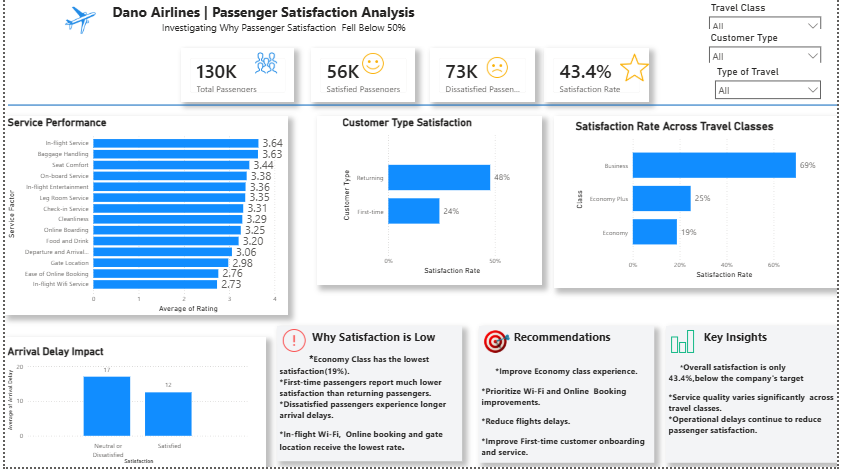

Layout of this report page (visuals, bound fields, positions):
{"tool":"powerbi","page":{"name":"Page 1","canvas":[1600,900],"ordinal":0},"visuals":[{"type":"cardVisual","fields":{"Data":["airline_passenger_satisfaction.Total Passengers"]},"box":[338.5,94.2,217.3,103.8],"z":0},{"type":"cardVisual","fields":{"Data":["airline_passenger_satisfaction.Satisfied Passengers"]},"box":[588.5,94.2,200,103.8],"z":1000},{"type":"cardVisual","fields":{"Data":["airline_passenger_satisfaction.Dissatisfied Passenger"]},"box":[817.3,94.2,201.9,103.8],"z":2000},{"type":"cardVisual","fields":{"Data":["airline_passenger_satisfaction.Satisfaction Rate"]},"box":[1036.5,94.2,201.9,103.8],"z":3000},{"type":"clusteredBarChart","title":" Satisfaction  Rate Across Travel Classes","fields":{"Category":["airline_passenger_satisfaction.Class"],"Y":["airline_passenger_satisfaction.Satisfaction Rate"]},"box":[1092.3,232.7,484.6,309.6],"z":4000},{"type":"clusteredBarChart","title":" Service Performance  ","fields":{"Category":["airline_passenger_satisfaction.Service Factor"],"Y":["Avg(airline_passenger_satisfaction.Rating)"]},"box":[0,225,544.2,382.7],"z":5000},{"type":"clusteredBarChart","title":"Customer Type Satisfaction","fields":{"Category":["airline_passenger_satisfaction.Customer Type"],"Y":["airline_passenger_satisfaction.Satisfaction Rate"]},"box":[644.2,225,355.8,309.6],"z":6000},{"type":"clusteredColumnChart","title":" Arrival Delay Impact","fields":{"Category":["airline_passenger_satisfaction.Satisfaction"],"Y":["Avg(airline_passenger_satisfaction.Arrival Delay)"]},"box":[0,665.4,475,234.6],"z":7000},{"type":"shape","box":[5.9,198,1594.1,11.8],"z":8000},{"type":"textbox","box":[1271.2,628.8,328.8,263.5],"z":9000},{"type":"textbox","box":[105.8,0,930.8,90.4],"z":10000},{"type":"textbox","box":[523.1,628.8,355.8,259.6],"z":11000},{"type":"textbox","box":[911.5,628.8,336.5,263.5],"z":12000},{"type":"slicer","fields":{"Values":["airline_passenger_satisfaction.Class"]},"box":[1344.2,0,234.6,73.1],"z":13000},{"type":"slicer","fields":{"Values":["airline_passenger_satisfaction.Customer Type"]},"box":[1344.2,57.7,234.6,65.4],"z":14000},{"type":"slicer","fields":{"Values":["airline_passenger_satisfaction.Type of Travel"]},"box":[1355.8,123.1,223.1,75],"z":15000},{"type":"image","box":[105.8,7.7,80.8,65.4],"z":16000},{"type":"image","box":[467.3,100,69.2,46.2],"z":17000},{"type":"image","box":[671.2,101.9,73.1,44.2],"z":18000},{"type":"image","box":[911.5,109.6,69.2,44.2],"z":19000},{"type":"image","box":[1182.7,101.9,55.8,59.6],"z":20000},{"type":"image","box":[1271.2,632.7,63.5,48.1],"z":21000},{"type":"image","box":[523.1,632.7,65.4,48.1],"z":22000},{"type":"image","box":[911.5,632.7,67.3,51.9],"z":24000},{"type":"actionButton","box":[600,225,432.7,325],"z":27000},{"type":"actionButton","box":[0,225,544.2,382.7],"z":28000},{"type":"actionButton","box":[1055.8,225,544.2,330.8],"z":29000},{"type":"actionButton","box":[0,650,501.9,250],"z":30000}]}

Visuals, with their boxes in screenshot pixels (x1, y1, x2, y2), scaled from the page's 1600x900 canvas onto the 851x471 screenshot:
cardVisual - airline_passenger_satisfaction.Total Passengers: (180, 49, 296, 104)
cardVisual - airline_passenger_satisfaction.Satisfied Passengers: (313, 49, 419, 104)
cardVisual - airline_passenger_satisfaction.Dissatisfied Passenger: (435, 49, 542, 104)
cardVisual - airline_passenger_satisfaction.Satisfaction Rate: (551, 49, 659, 104)
" Satisfaction  Rate Across Travel Classes" clusteredBarChart: (581, 122, 839, 284)
" Service Performance  " clusteredBarChart: (0, 118, 289, 318)
"Customer Type Satisfaction" clusteredBarChart: (343, 118, 532, 280)
" Arrival Delay Impact" clusteredColumnChart: (0, 348, 253, 470)
shape: (3, 104, 850, 110)
textbox: (676, 329, 850, 467)
textbox: (56, 0, 551, 47)
textbox: (278, 329, 467, 465)
textbox: (485, 329, 664, 467)
slicer - airline_passenger_satisfaction.Class: (715, 0, 840, 38)
slicer - airline_passenger_satisfaction.Customer Type: (715, 30, 840, 64)
slicer - airline_passenger_satisfaction.Type of Travel: (721, 64, 840, 104)
image: (56, 4, 99, 38)
image: (249, 52, 285, 77)
image: (357, 53, 396, 76)
image: (485, 57, 522, 80)
image: (629, 53, 659, 85)
image: (676, 331, 710, 356)
image: (278, 331, 313, 356)
image: (485, 331, 521, 358)
actionButton: (319, 118, 549, 288)
actionButton: (0, 118, 289, 318)
actionButton: (562, 118, 850, 291)
actionButton: (0, 340, 267, 470)
